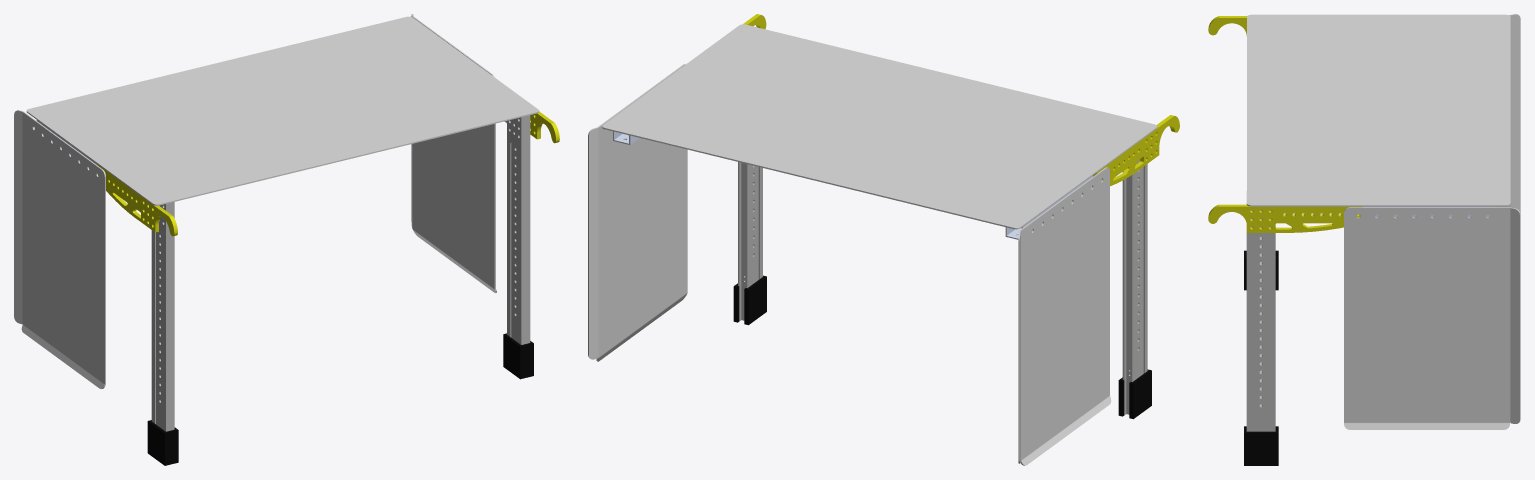
The picture shows the model from 3 angles, left to right: view 1: azimuth 30°, elevation 25°; view 2: azimuth 150°, elevation 25°; view 3: azimuth 270°, elevation 25°; orthographic projection. The views are drawn at different scales.
Visible parts, largest first — view 1: Sólido2 (×3), Sólido1 (×5); view 2: Sólido2 (×3), Sólido1 (×5); view 3: Sólido2 (×4), Sólido1 (×4).
Part boxes in pixels (x1,y1,x2,y2): Sólido2 (×3): (14, 14, 539, 389); Sólido1 (×5): (98, 115, 530, 465); Sólido2 (×3): (588, 24, 1157, 465); Sólido1 (×5): (738, 115, 1179, 419); Sólido2 (×4): (1246, 14, 1520, 429); Sólido1 (×4): (1208, 16, 1362, 465).
Size of the model in its own units: 0.6411 by 0.402 by 0.4297.
